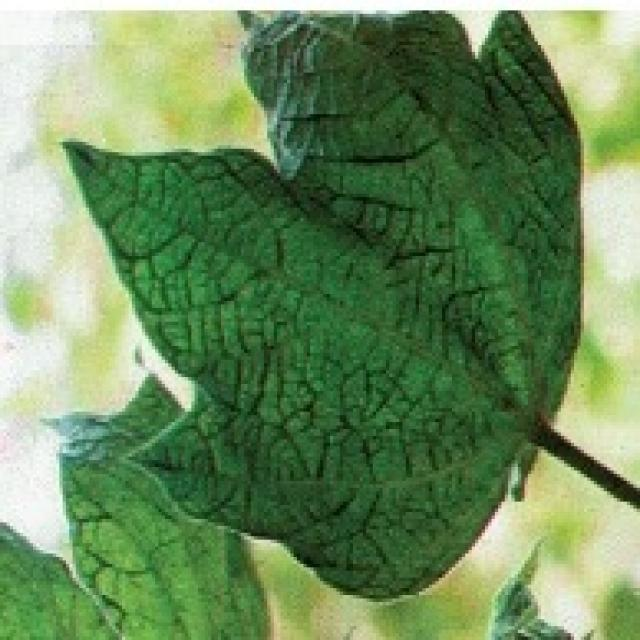Leaf Curl Virus: (223, 32, 535, 516)
